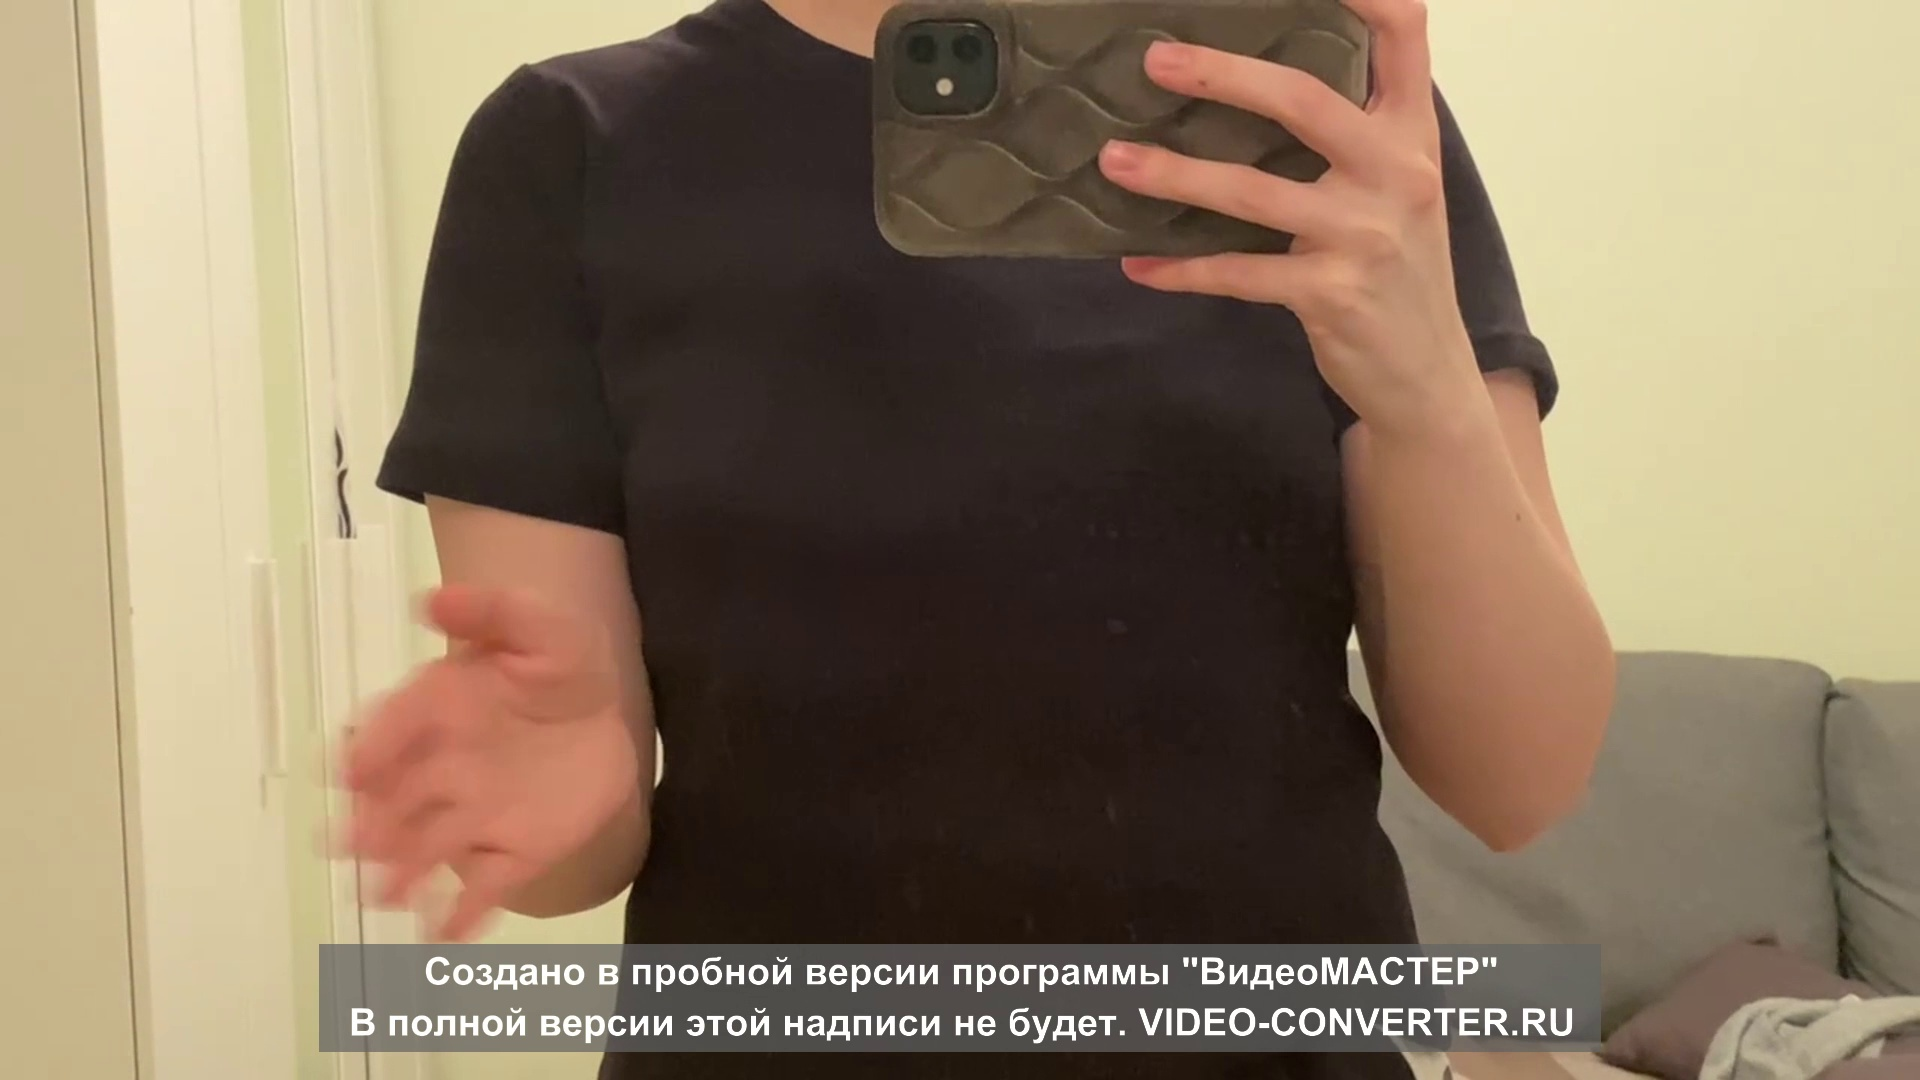Ладонь: (316, 580, 636, 939)
